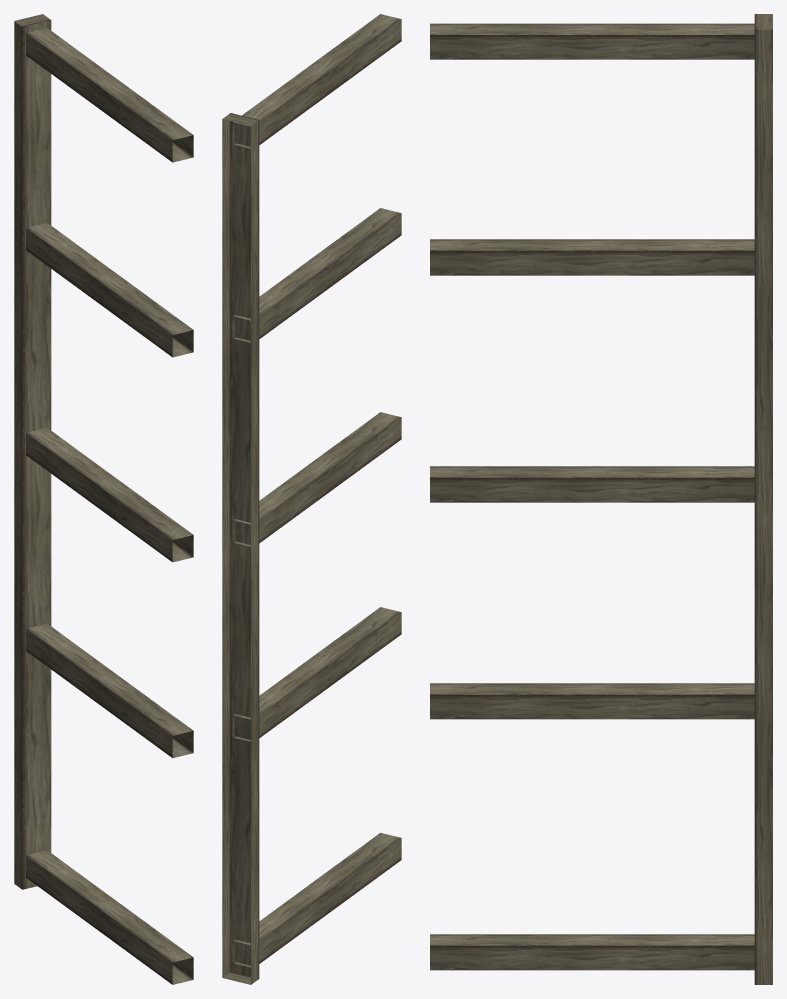
File: Platform_Structure_A.fbx
The picture shows the model from 3 angles, left to right: view 1: azimuth 30°, elevation 25°; view 2: azimuth 150°, elevation 25°; view 3: azimuth 270°, elevation 25°; orthographic projection. The views are drawn at different scales.
Parts seen in each view (by area): view 1: Platform_Structure_A; view 2: Platform_Structure_A; view 3: Platform_Structure_A.
Part boxes in pixels (<box>): Platform_Structure_A: <box>14,14,193,984</box>; Platform_Structure_A: <box>222,14,401,984</box>; Platform_Structure_A: <box>430,14,772,984</box>.
Size of the model in its own units: 0.4005 by 11.49 by 3.74.
